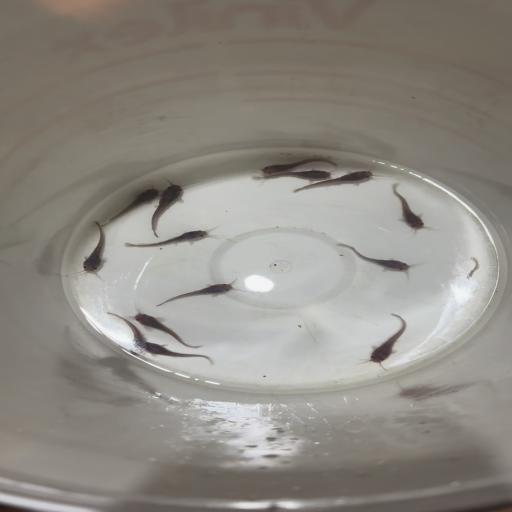lele: (356, 312, 412, 370), (154, 276, 247, 308), (333, 242, 419, 276), (132, 310, 206, 349), (100, 186, 159, 228), (289, 168, 379, 194), (150, 181, 190, 238), (72, 221, 110, 278), (390, 180, 430, 234), (100, 310, 147, 355), (121, 228, 221, 249), (448, 256, 486, 308), (143, 341, 216, 365), (255, 156, 340, 174), (250, 167, 333, 183)
